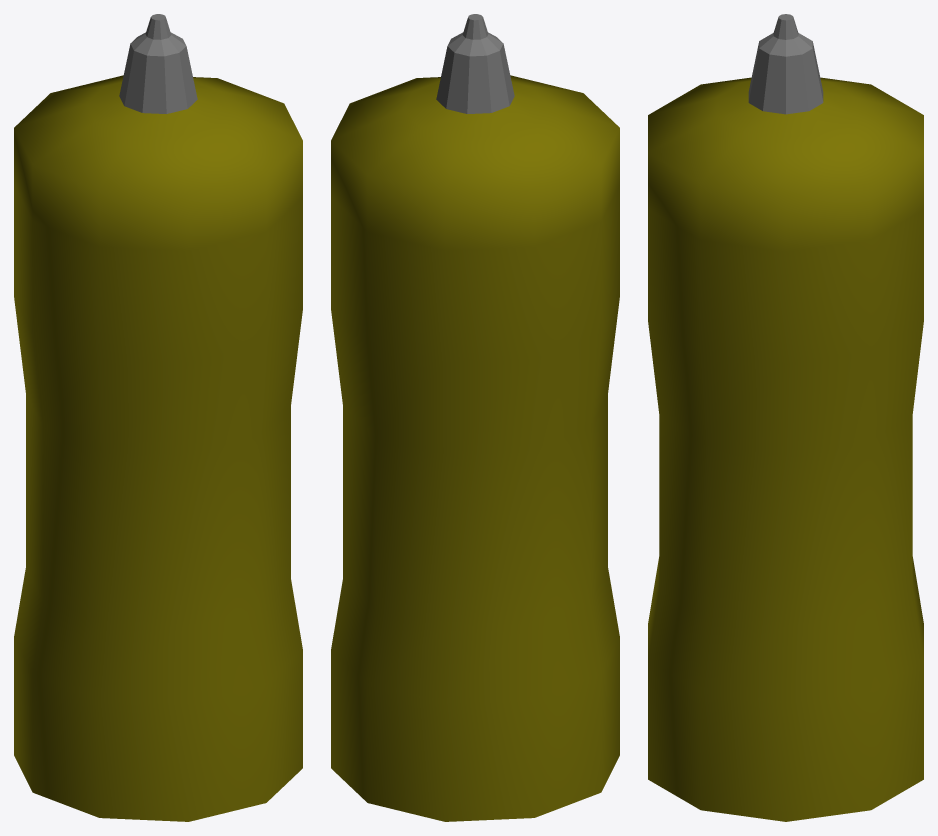
The model's file is HollandaiseSauce.fbx.
3 views of the same model, side by side, from view 1: azimuth 30°, elevation 25°; view 2: azimuth 150°, elevation 25°; view 3: azimuth 270°, elevation 25° (orthographic).
Parts seen in each view (by area): view 1: m_HollandaiseSauce; view 2: m_HollandaiseSauce; view 3: m_HollandaiseSauce.
Part boxes in pixels (box(x1,y1,x2,y2)): m_HollandaiseSauce: box(14, 14, 302, 821); m_HollandaiseSauce: box(331, 14, 619, 821); m_HollandaiseSauce: box(648, 14, 923, 821).
Size of the model in its own units: 4.27 by 12.23 by 4.06.
